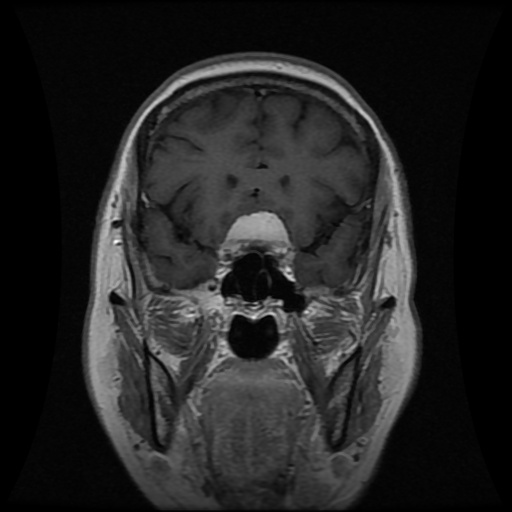meningioma: (219, 211, 290, 254)
